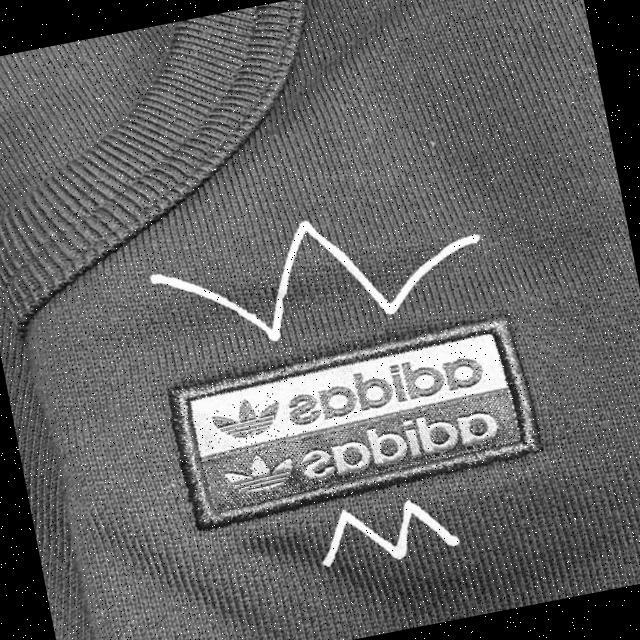Adidas: (212, 429, 324, 511), (201, 394, 283, 454)
